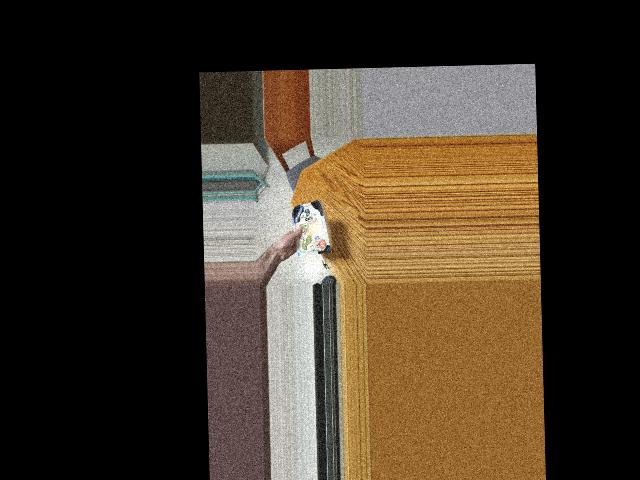cheese: (281, 201, 334, 259)
